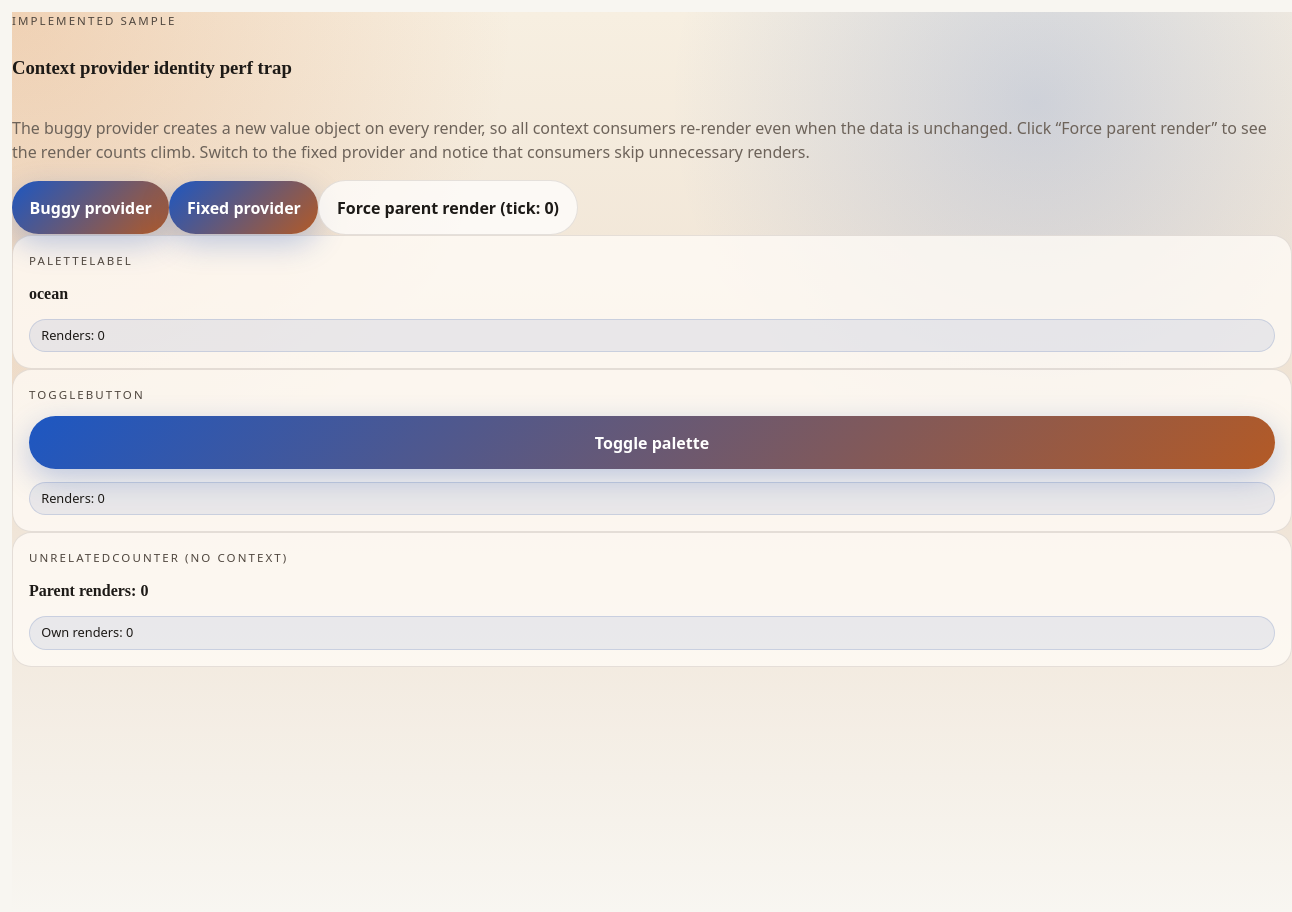
Scenario: context identity sample › shows extra consumer renders in buggy mode but skips them in fixed mode
Click the button "Force parent render (tick: 0)" at (448,208), box [318,180,578,235]
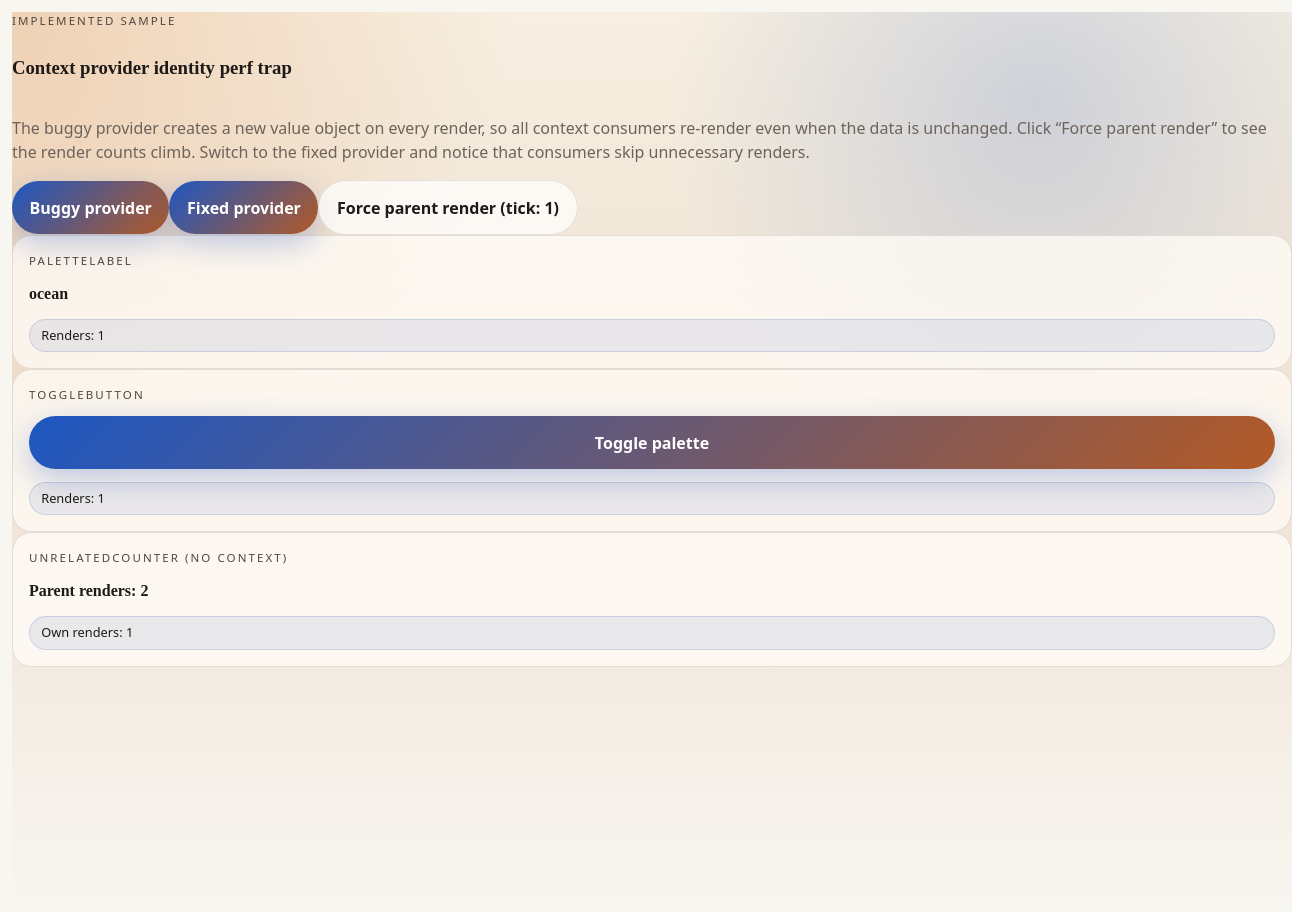
Check: the text "Renders: 1" below "ocean" is shown, box [29,319,1275,352]
Check: the text "Renders: 1" below "ToggleButton" is shown, box [29,482,1275,515]
Check: the text "Parent renders: 2" is shown, box [29,582,148,599]
Click the button "Fixed provider" at (244,208), box [170,181,318,234]
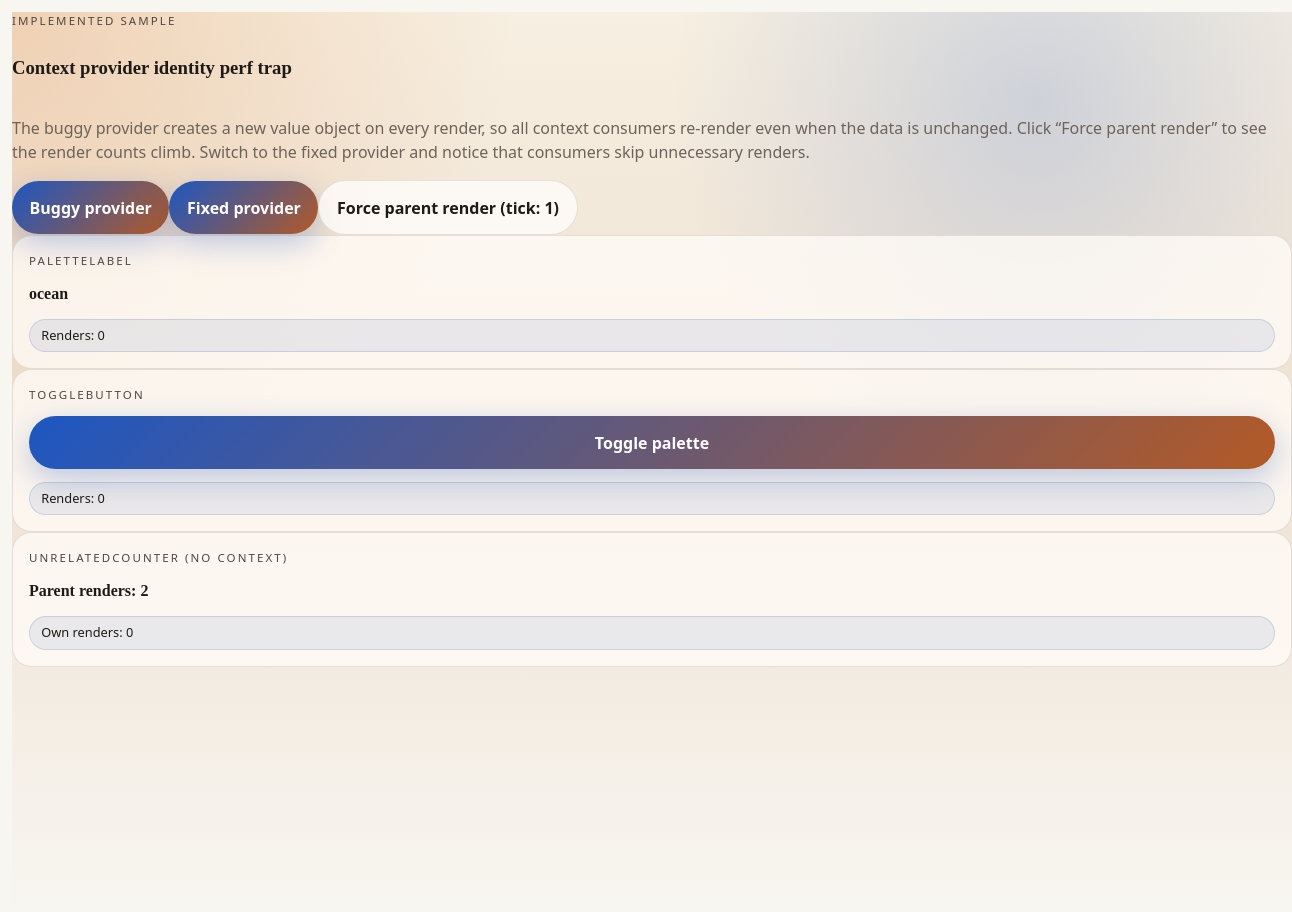
Check: the text "PaletteLabel" is shown, box [29,253,133,268]
Check: the text "Renders: 0" below "ocean" is shown, box [29,319,1275,352]
Check: the text "Renders: 0" below "ToggleButton" is shown, box [29,482,1275,515]
Click the button "Force parent render (tick: 1)" at (448,208), box [318,180,578,235]
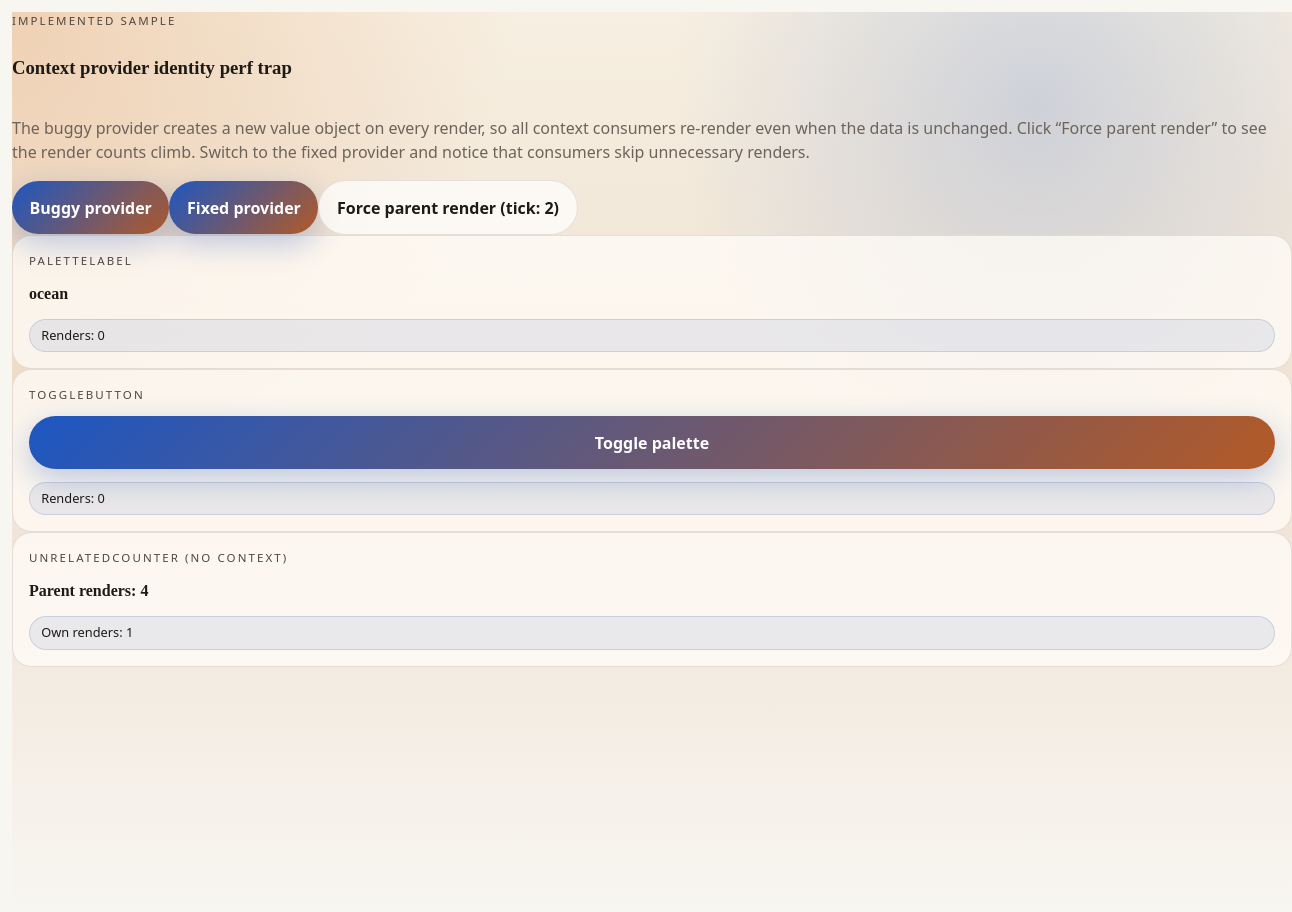
Check: the text "Renders: 0" below "ocean" is shown, box [29,319,1275,352]
Check: the text "Renders: 0" below "ToggleButton" is shown, box [29,482,1275,515]
Check: the text "Parent renders: 4" is shown, box [29,582,148,599]
